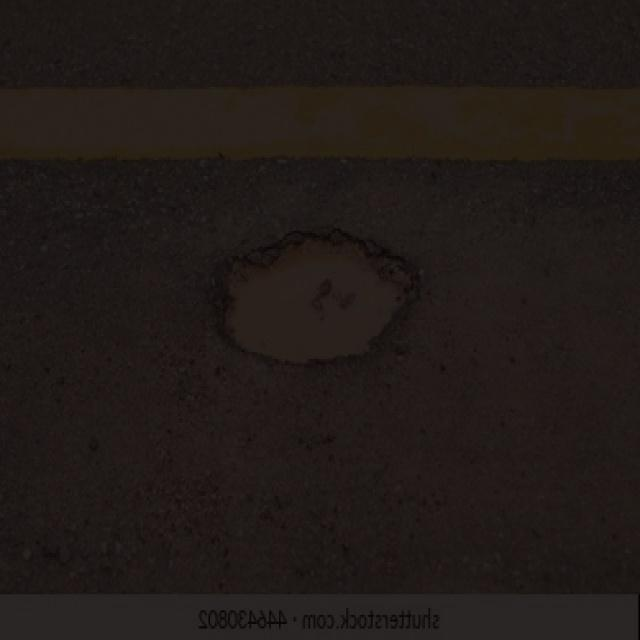Pothole: (176, 210, 434, 379)
